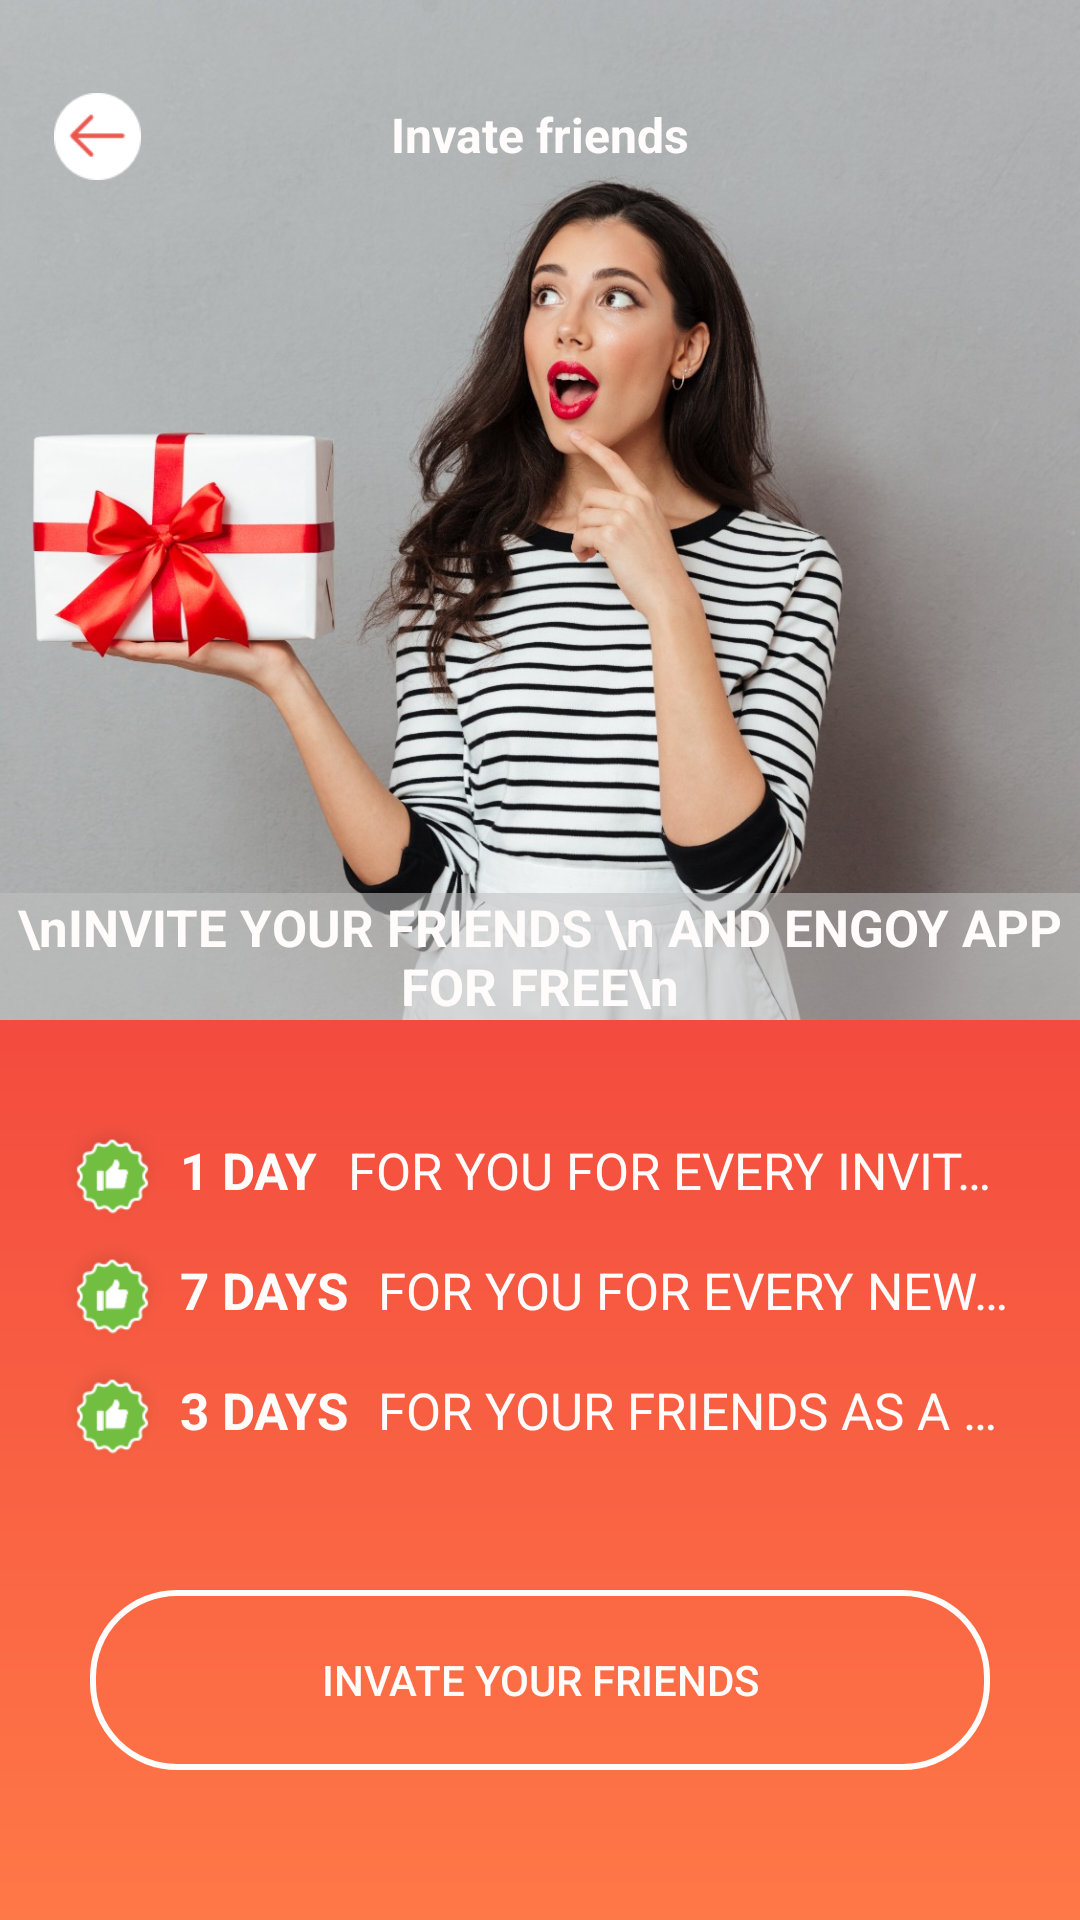

Where to tap for icons on this 1080px x 1920px app screen, as (x,y):
back: (97,136)
